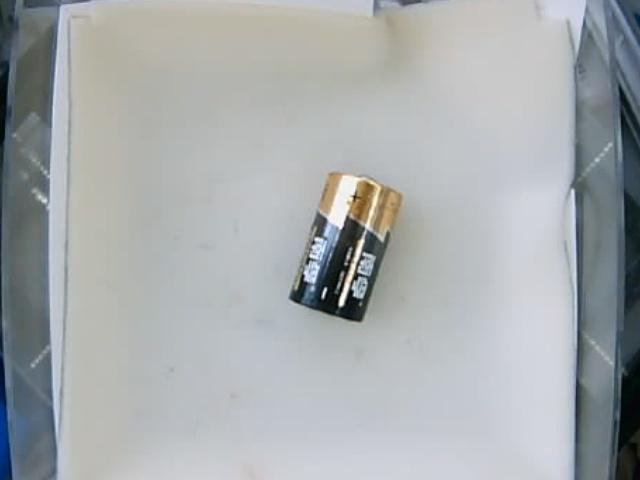Battery: (286, 174, 404, 326)
